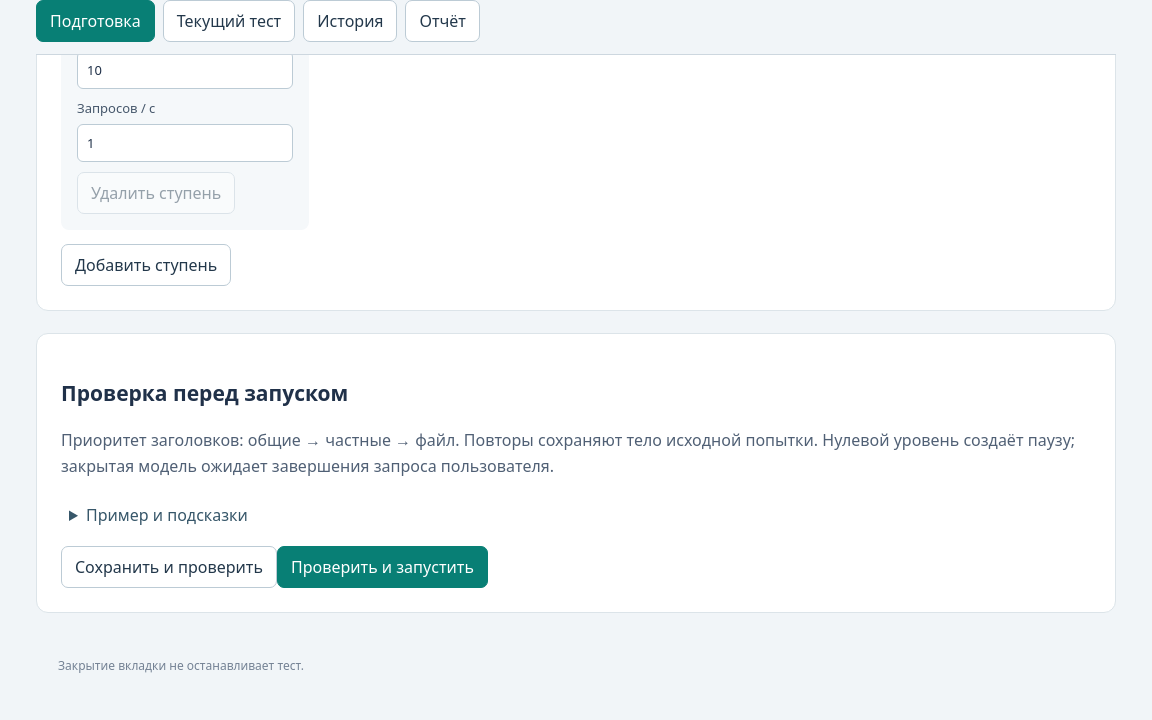
Test: keeps a newer polled revision when the pending start acknowledgement arrives late
The width and height of the screenshot is (1152, 720).
(page scrolled)
Click the button "Проверить и запустить": (382, 567) [277,546,488,588]
Wait 1000 ms
(page scrolled)
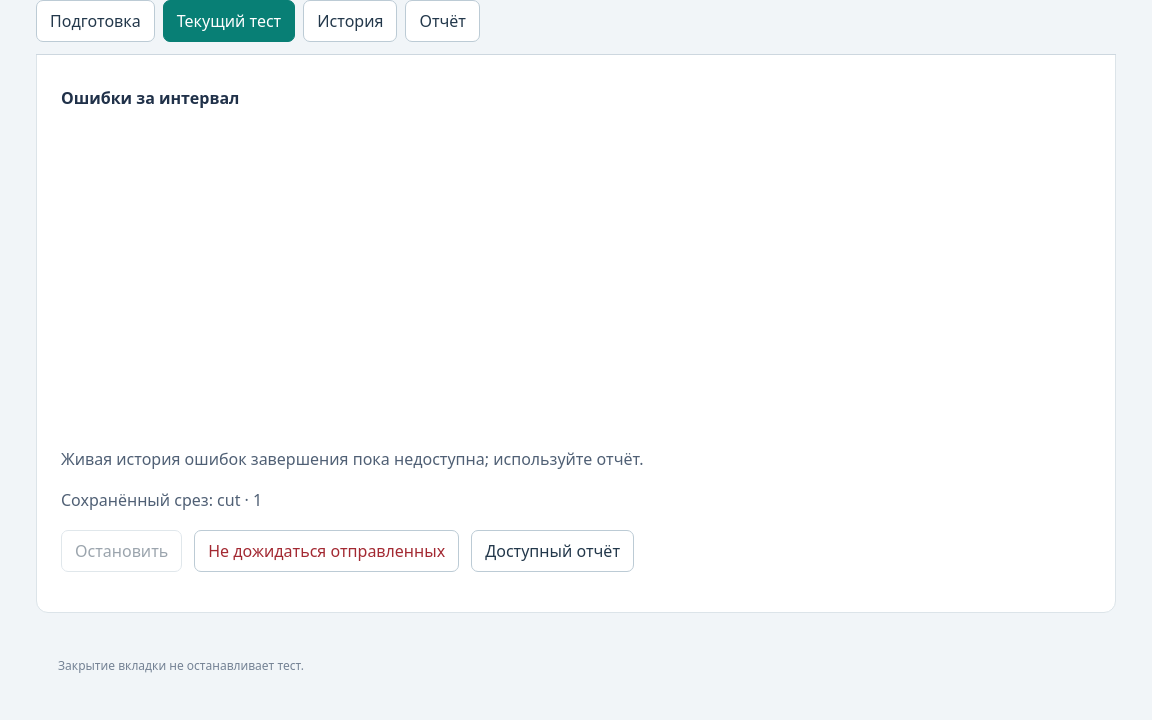
Now the button "Остановить" is disabled, box [61,530,182,572]
